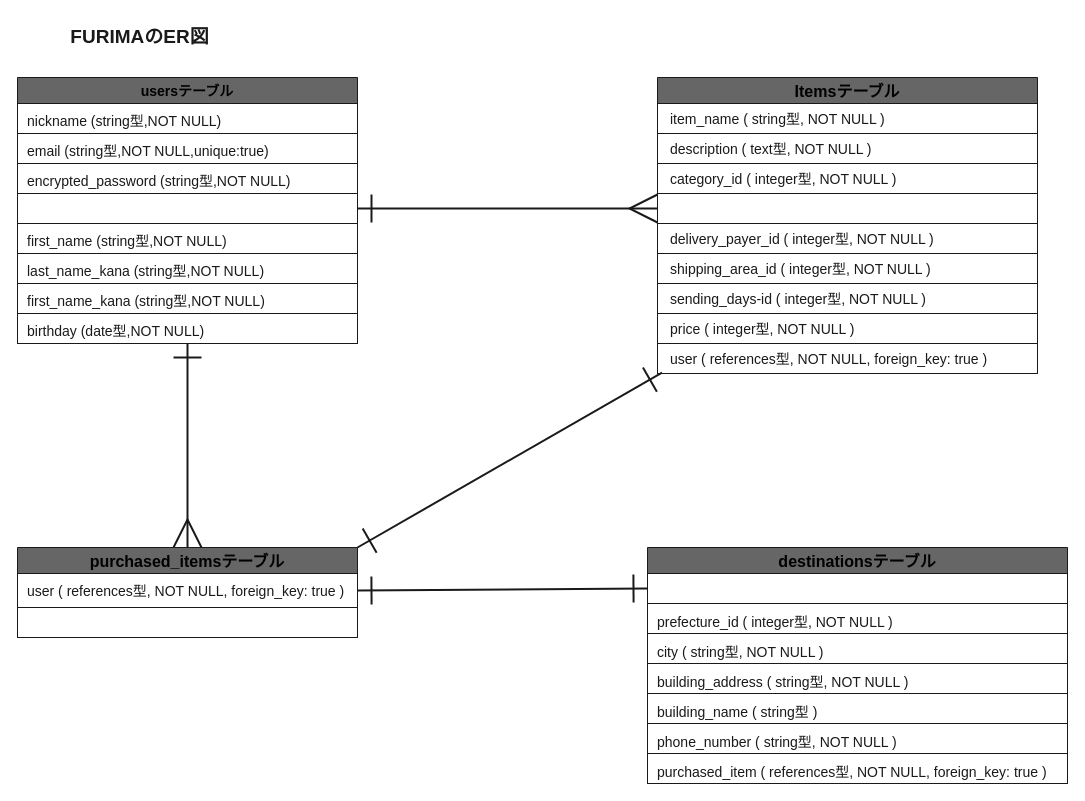
Image size: 1085x801. Some labels were removed from this diagram. The shapes that lost their labels are listed below. From the top down, each one's centre as x and y in pixels, then its label:
point 187,208: last_name (string型,NOT NULL)
point 847,208: condition_id ( integer型, NOT NULL )
point 857,588: postal_code ( string型, NOT NULL )
point 187,622: item ( references型, NOT NULL, foreign_key:true )
